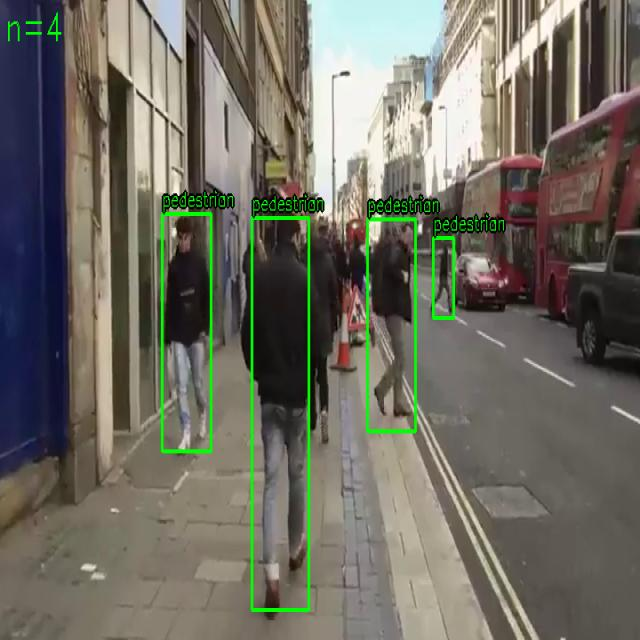with scooter: (252, 217, 310, 611), (162, 213, 212, 452), (367, 219, 416, 432), (433, 237, 454, 319)
